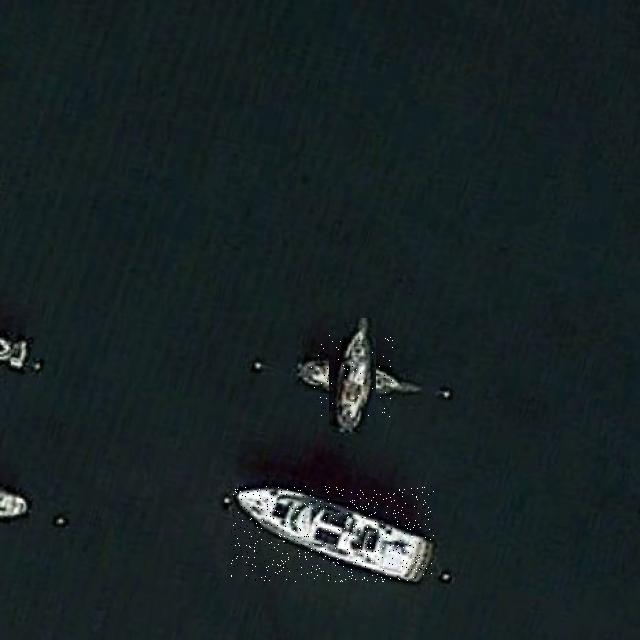boat: (231, 486, 434, 582), (311, 335, 394, 418)
